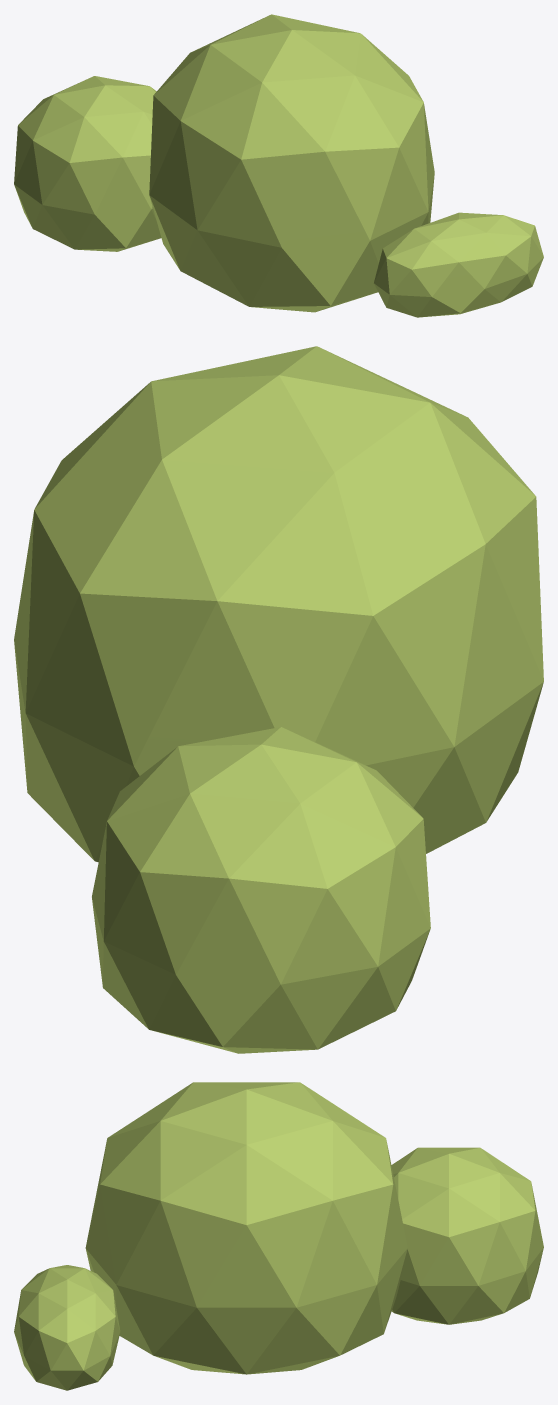
The model's file is Cactus_V06.fbx.
3 views of the same model, one above another, from view 1: azimuth 30°, elevation 25°; view 2: azimuth 150°, elevation 25°; view 3: azimuth 270°, elevation 25° (orthographic). The views are drawn at different scales.
Visible parts, largest first — view 1: Cactus_V06; view 2: Cactus_V06; view 3: Cactus_V06.
Part boxes in pixels (x1,y1,x2,y2): Cactus_V06: [14, 14, 543, 317]; Cactus_V06: [14, 346, 543, 1053]; Cactus_V06: [14, 1082, 543, 1390].
Bounding box in the file's own units: 76.34 × 57.91 × 105.
